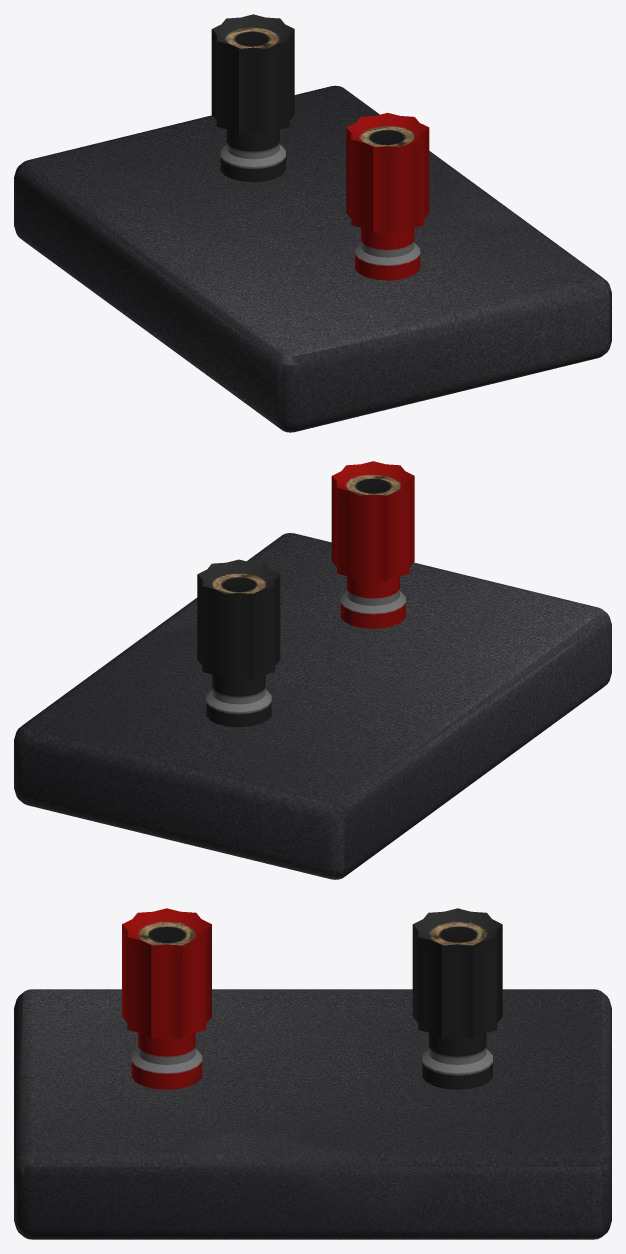
Rendered from Electro05_3.FBX.
The picture shows the model from 3 angles, top to bottom: view 1: azimuth 30°, elevation 25°; view 2: azimuth 150°, elevation 25°; view 3: azimuth 270°, elevation 25°; orthographic projection. The views are drawn at different scales.
Parts seen in each view (by area): view 1: Electro05_3; view 2: Electro05_3; view 3: Electro05_3.
Part boxes in pixels (x1,y1,x2,y2): Electro05_3: (14, 14, 611, 432); Electro05_3: (14, 461, 611, 879); Electro05_3: (14, 908, 611, 1239).
Bounding box in the file's own units: 25.66 × 15.86 × 36.73.
